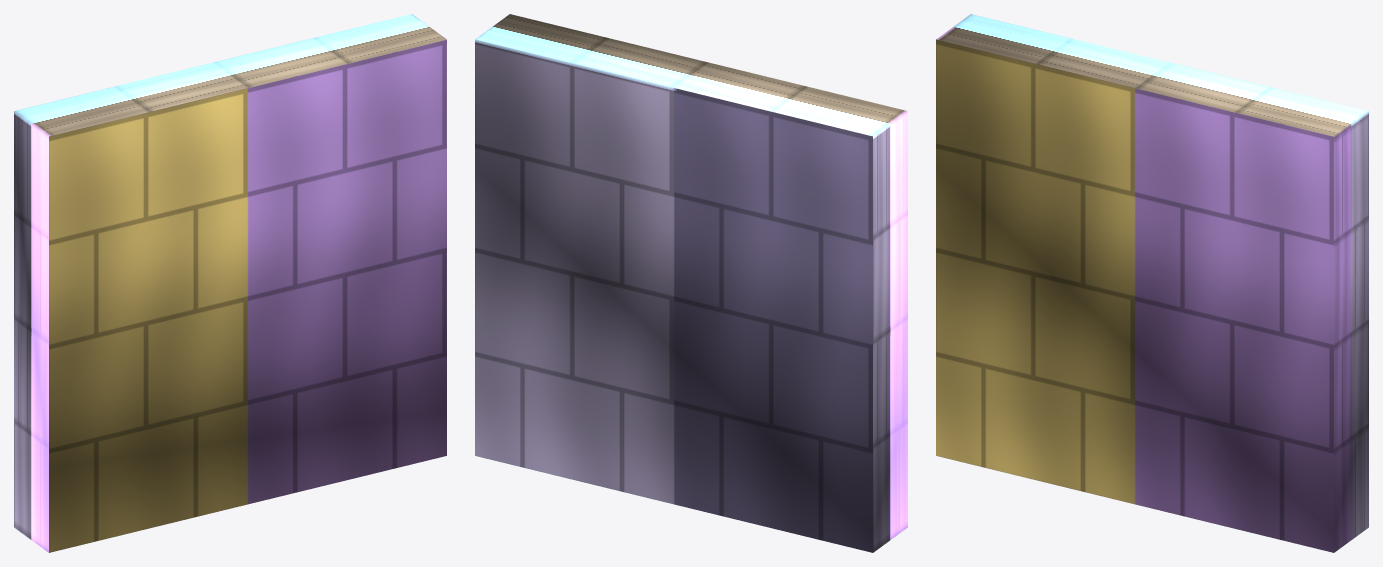
File: wall_stone.glb
3 renders of one model, left to right at view 1: azimuth 30°, elevation 25°; view 2: azimuth 150°, elevation 25°; view 3: azimuth 330°, elevation 25°, orthographic.
Visible parts, largest first — view 1: col; view 2: col; view 3: col.
Part boxes in pixels (x1=…): col: x1=14, y1=14, x2=446, y2=552; col: x1=475, y1=14, x2=907, y2=552; col: x1=936, y1=14, x2=1368, y2=552.
Bounding box in the file's own units: 1.98 × 1.98 × 0.2999.
1 material, 1 textured.
